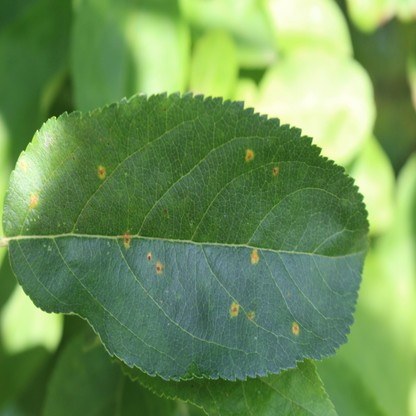rust: (28, 191, 39, 208), (229, 301, 240, 317), (123, 230, 130, 247), (97, 164, 106, 177), (155, 259, 163, 273), (251, 248, 258, 263), (245, 148, 253, 161), (291, 321, 299, 333), (19, 156, 25, 171), (247, 309, 254, 321), (146, 252, 152, 260), (272, 166, 277, 175)
